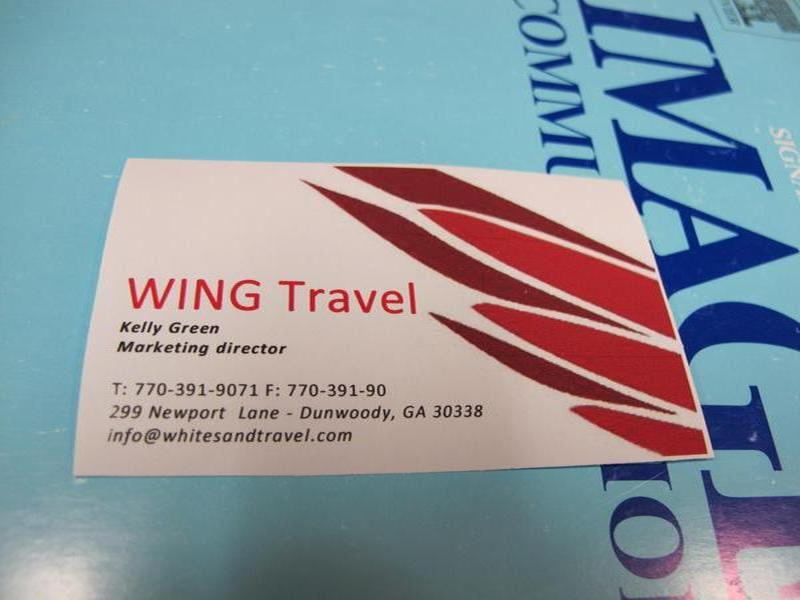card: (75, 152, 720, 480)
